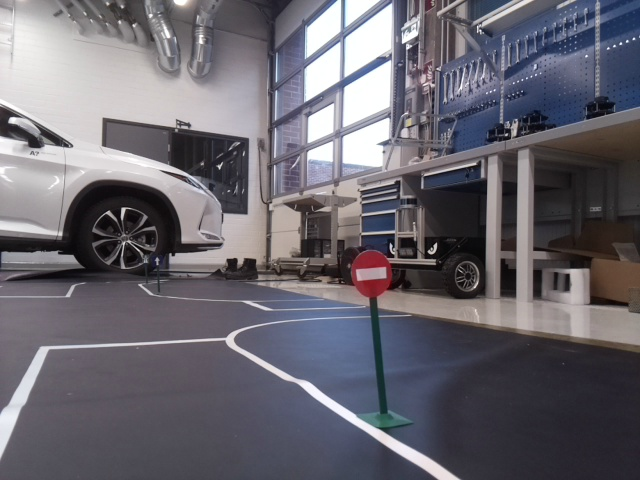NoEntry: (349, 251, 390, 296)
